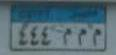4: (40, 24, 51, 46), (17, 25, 28, 46), (29, 25, 39, 47)
meem: (76, 26, 88, 48), (62, 27, 74, 47), (92, 26, 102, 48)
